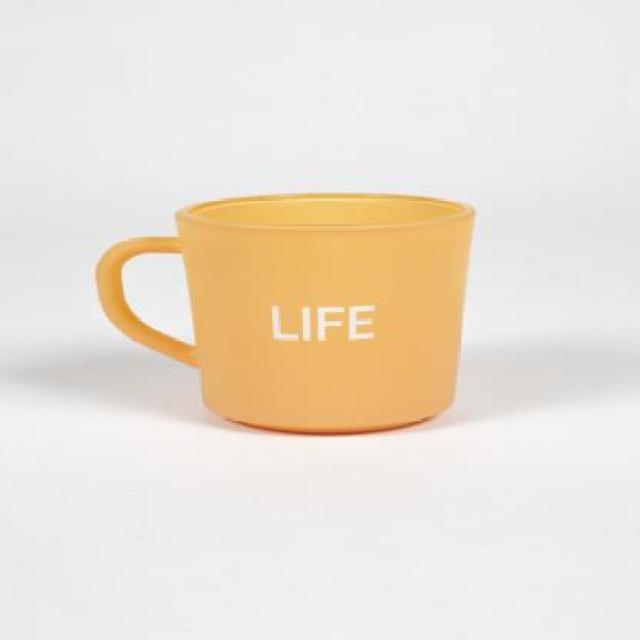taza: (93, 192, 482, 435)
